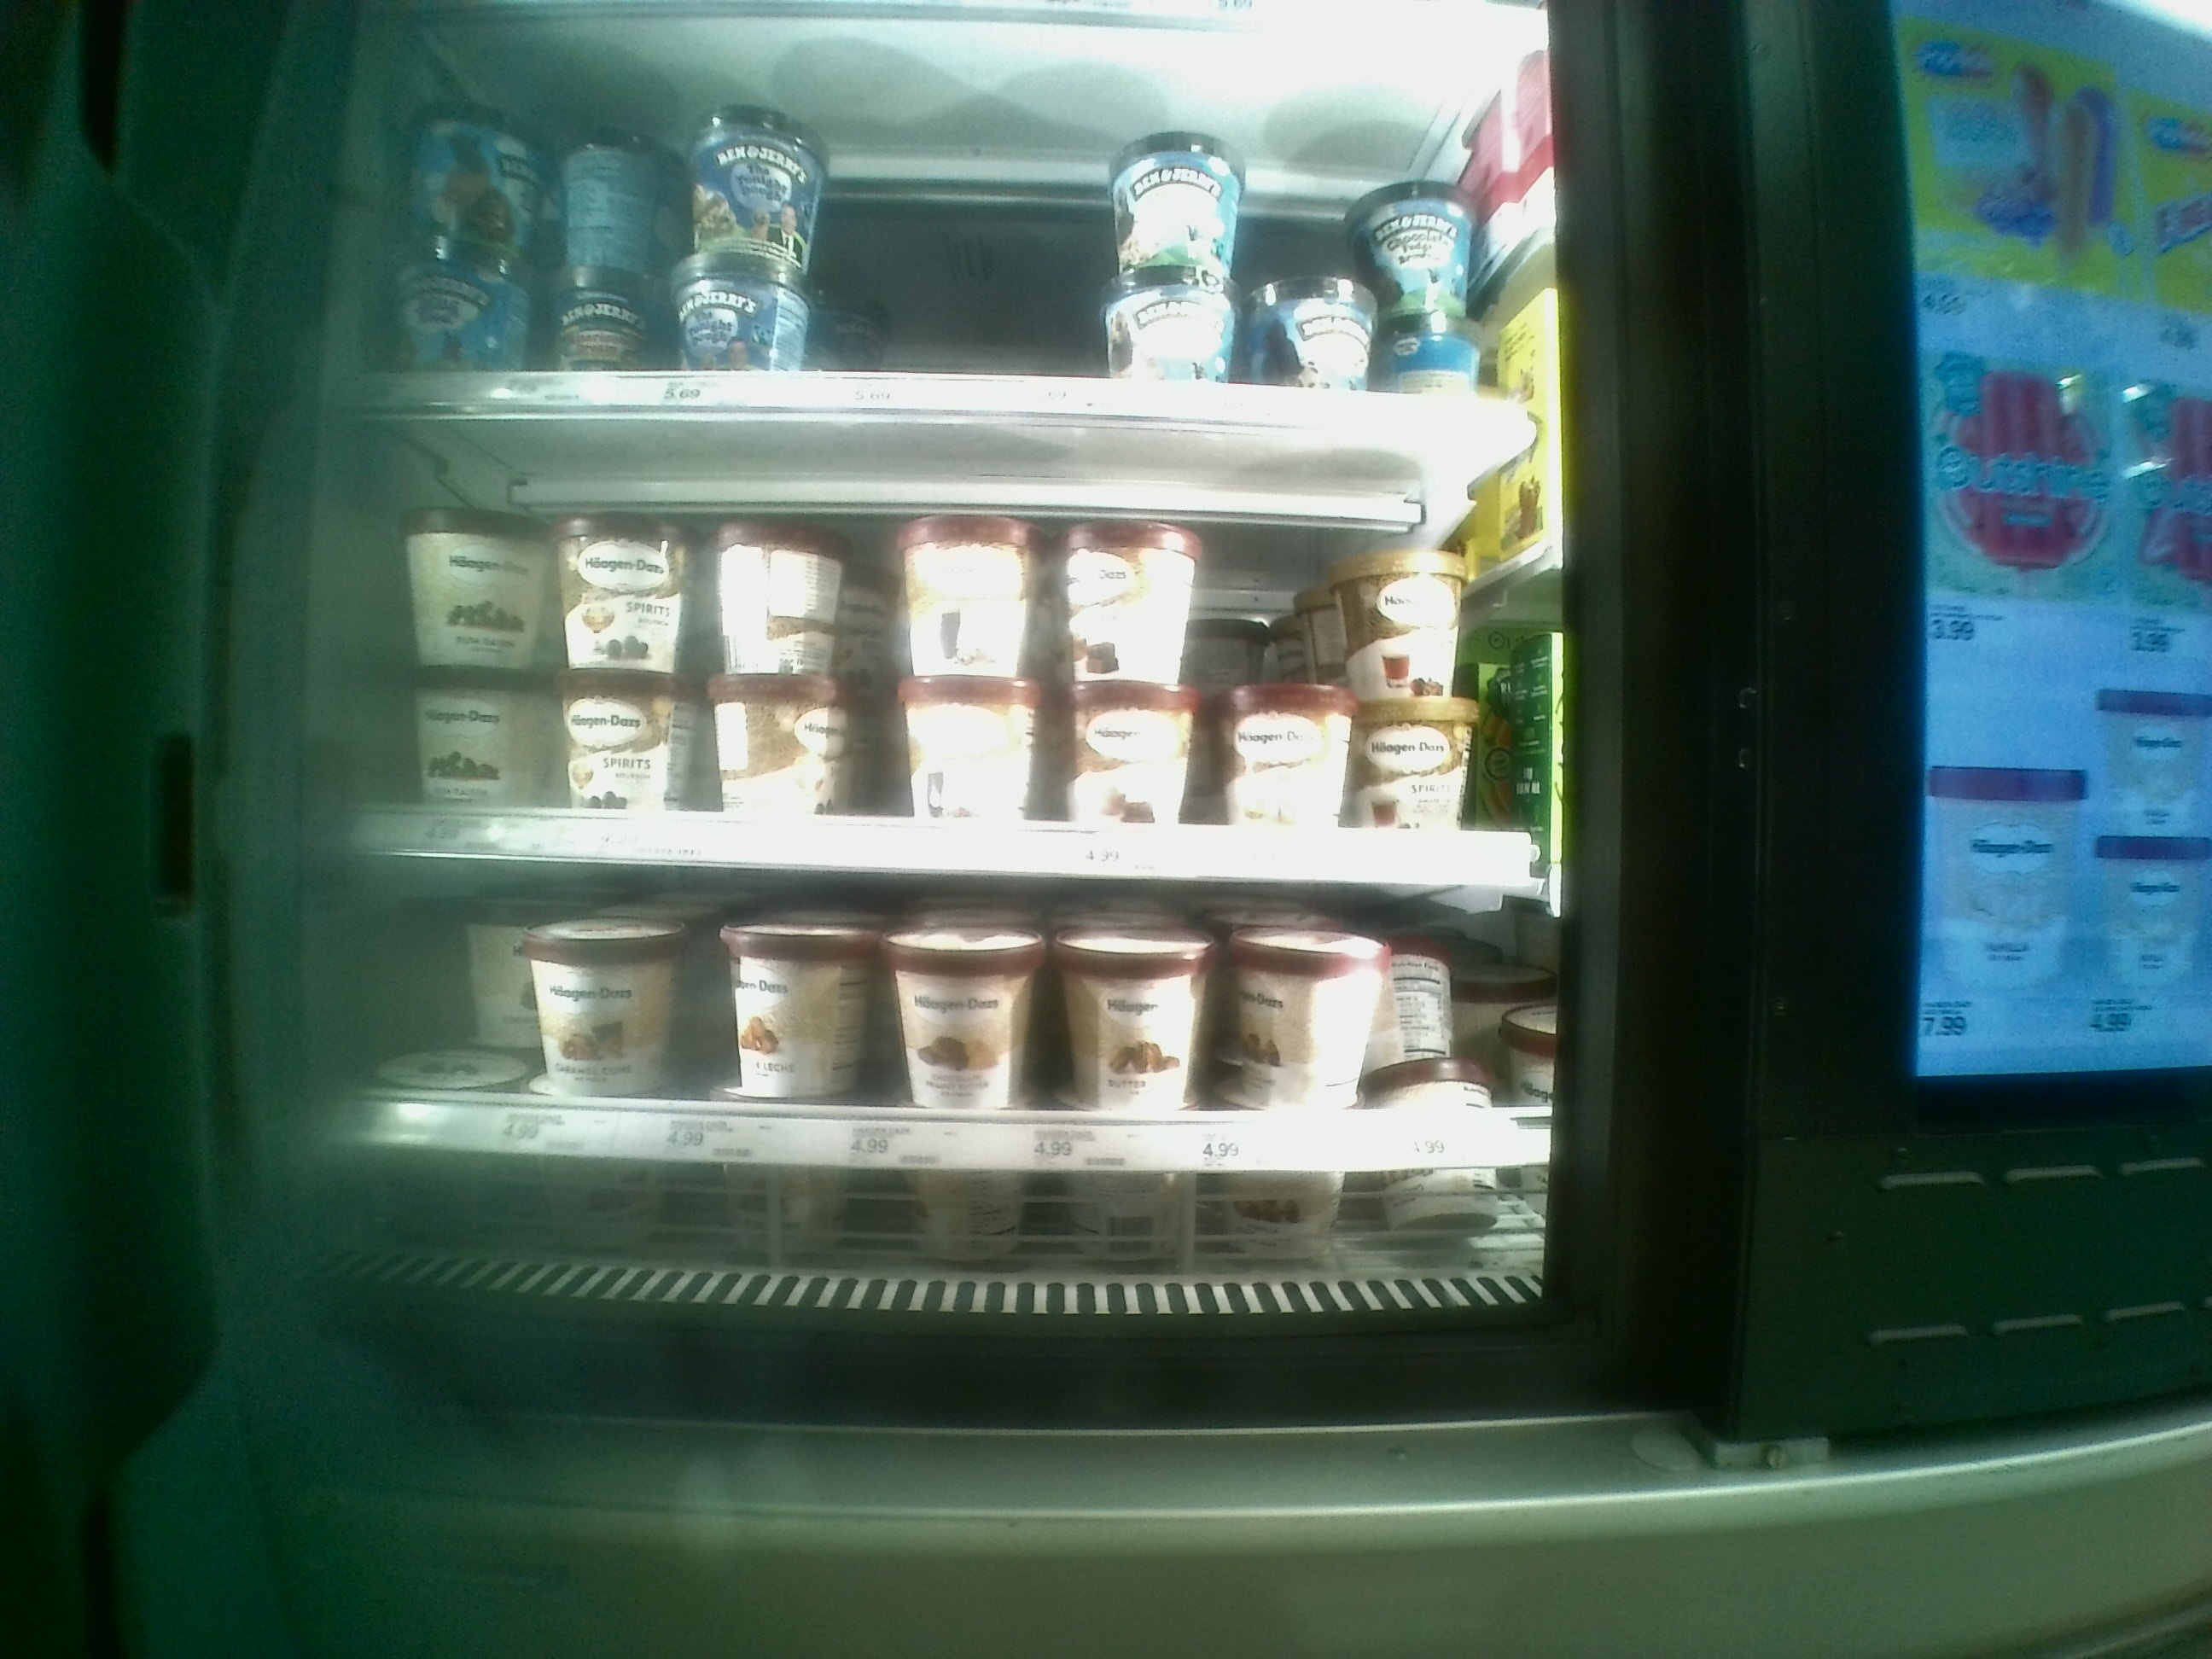shelf: (329, 415, 1533, 856), (331, 859, 1533, 1263)
